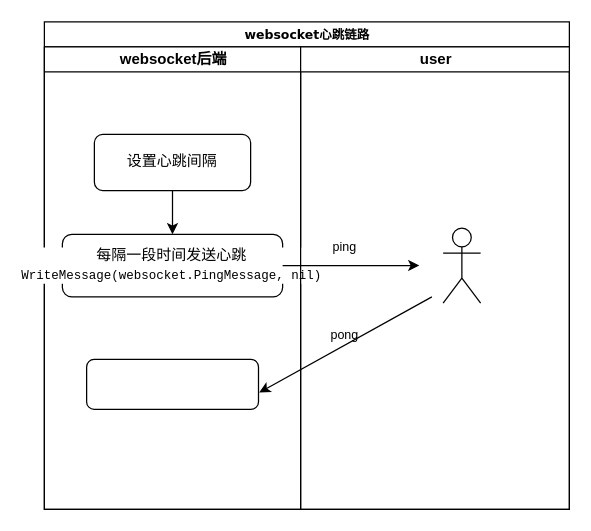
Some shapes in this 591 by 531 pixel diagram are drawn without their labels. The centre of each missing label's shape, as x and y in pixels:
Actor1: point (461, 265)
刷新心跳间隔时间: point (171, 383)
